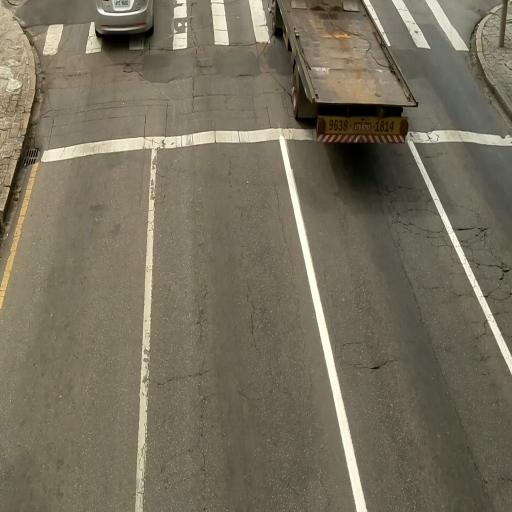car: (94, 1, 156, 37)
others: (263, 3, 410, 138)
